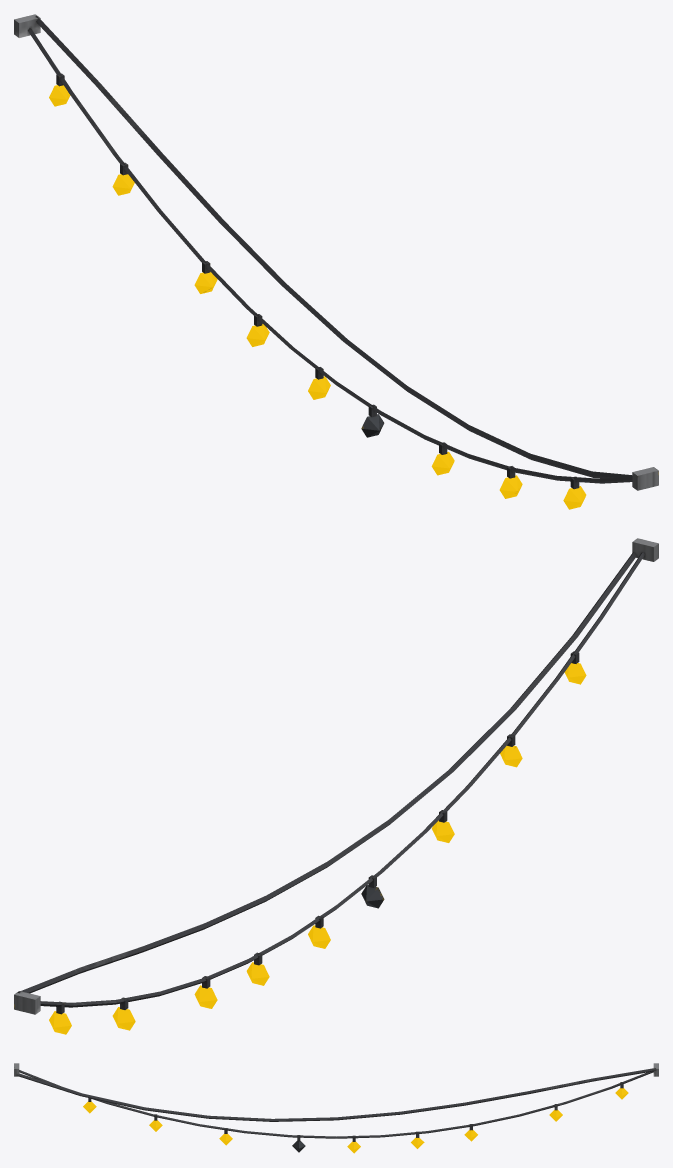
The model's file is nodexeus-set-run-lights-b.glb.
The picture shows the model from 3 angles, top to bottom: view 1: azimuth 30°, elevation 25°; view 2: azimuth 150°, elevation 25°; view 3: azimuth 270°, elevation 25°; orthographic projection. The views are drawn at different scales.
Parts seen in each view (by area): view 1: set-run-lights-b; view 2: set-run-lights-b; view 3: set-run-lights-b.
Part boxes in pixels (x1,y1,x2,y2): set-run-lights-b: [14, 14, 658, 509]; set-run-lights-b: [14, 538, 658, 1034]; set-run-lights-b: [14, 1063, 658, 1153].
Size of the model in its own units: 0.131 by 0.8949 by 6.05.
Materials: 1 (1 with a texture image).
